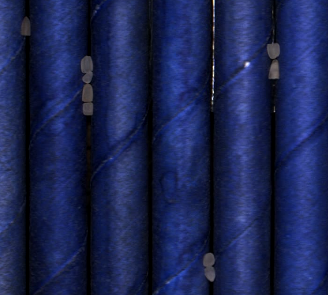broken_grain: (264, 40, 283, 60), (79, 53, 94, 73), (202, 251, 217, 267), (81, 102, 96, 117), (81, 70, 95, 85)
milky_grain: (266, 59, 282, 83), (202, 265, 217, 285)
yellow_grain: (80, 82, 94, 105), (20, 15, 32, 39)
